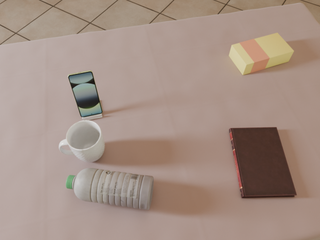book: (229, 127, 297, 198)
bottle: (66, 168, 154, 210)
box: (229, 33, 294, 75)
cup: (59, 120, 105, 162)
phone: (68, 70, 102, 117)
